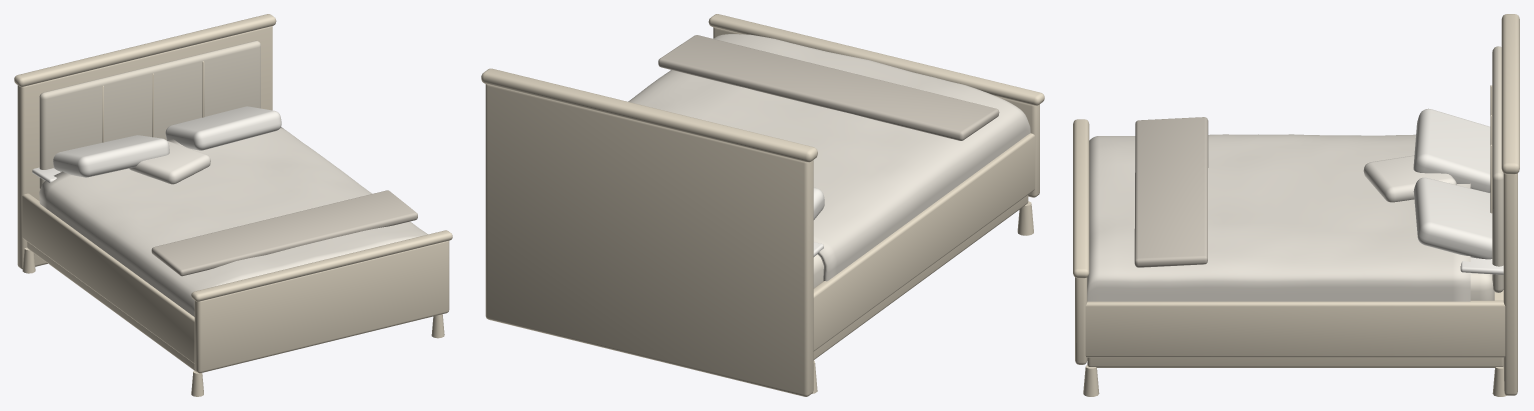
File: bed_double.glb
3 views of the same model, side by side, from view 1: azimuth 30°, elevation 25°; view 2: azimuth 150°, elevation 25°; view 3: azimuth 270°, elevation 25° (orthographic). The views are drawn at different scales.
Parts seen in each view (by area): view 1: duvet, fb, hb_pad, throw, rail, hb_back, hb_top, pillow.001, pillow, fb_top, cushion, platform; view 2: hb_back, duvet, rail, throw, hb_top, fb_top, platform, fb; view 3: duvet, rail.001, throw, pillow.001, pillow, platform, hb_back, hb_top, fb_top, hb_pad, cushion, fb (+3 smaller).
Part boxes in pixels (<box>): duvet: <box>39,127,427,316</box>; fb: <box>194,241,449,373</box>; hb_pad: <box>39,40,260,188</box>; throw: <box>151,190,417,276</box>; rail: <box>22,193,194,363</box>; hb_back: <box>17,26,272,269</box>; hb_top: <box>14,14,276,86</box>; pillow.001: <box>165,106,281,150</box>; pillow: <box>53,135,169,177</box>; fb_top: <box>191,230,452,301</box>; cushion: <box>129,141,210,184</box>; platform: <box>27,241,196,371</box>; hb_back: <box>485,84,813,396</box>; duvet: <box>628,34,1030,281</box>; rail: <box>813,133,1034,351</box>; throw: <box>658,35,999,140</box>; hb_top: <box>481,68,817,162</box>; fb_top: <box>708,14,1044,105</box>; platform: <box>813,195,1028,359</box>; fb: <box>713,27,1039,197</box>; duvet: <box>1087,134,1470,301</box>; rail.001: <box>1085,300,1505,357</box>; throw: <box>1134,117,1208,267</box>; pillow.001: <box>1413,177,1492,259</box>; pillow: <box>1413,108,1490,192</box>; platform: <box>1087,290,1503,367</box>; hb_back: <box>1503,173,1517,395</box>; hb_top: <box>1501,14,1519,174</box>; fb_top: <box>1073,119,1089,278</box>; hb_pad: <box>1492,46,1503,292</box>; cushion: <box>1363,155,1456,202</box>; fb: <box>1075,277,1087,364</box>.
Bounding box in the file's own units: 1.8 × 1.28 × 2.23.
